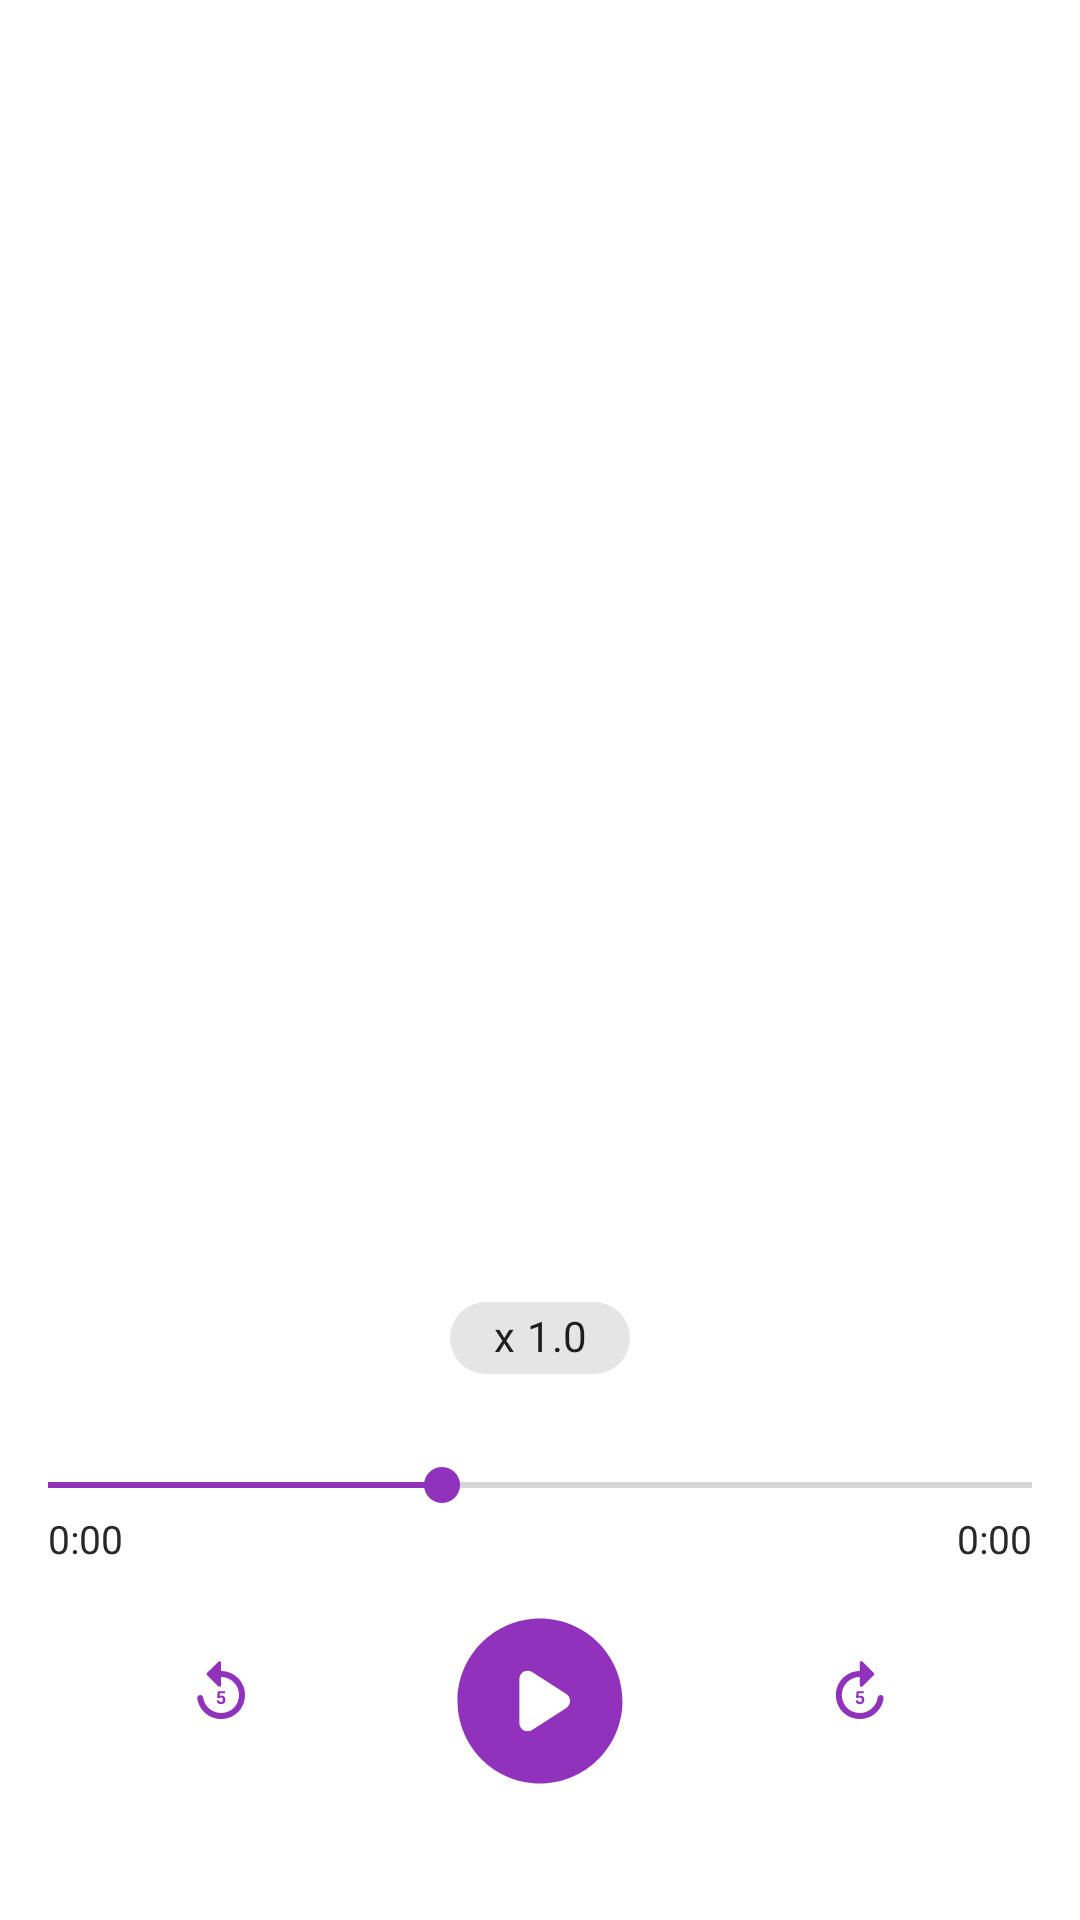

Icon click points for this 1080px×1920px phone screenshot, format [x,y]:
backward: [221,1690]
forward: [859,1690]
play circle: [540,1701]
